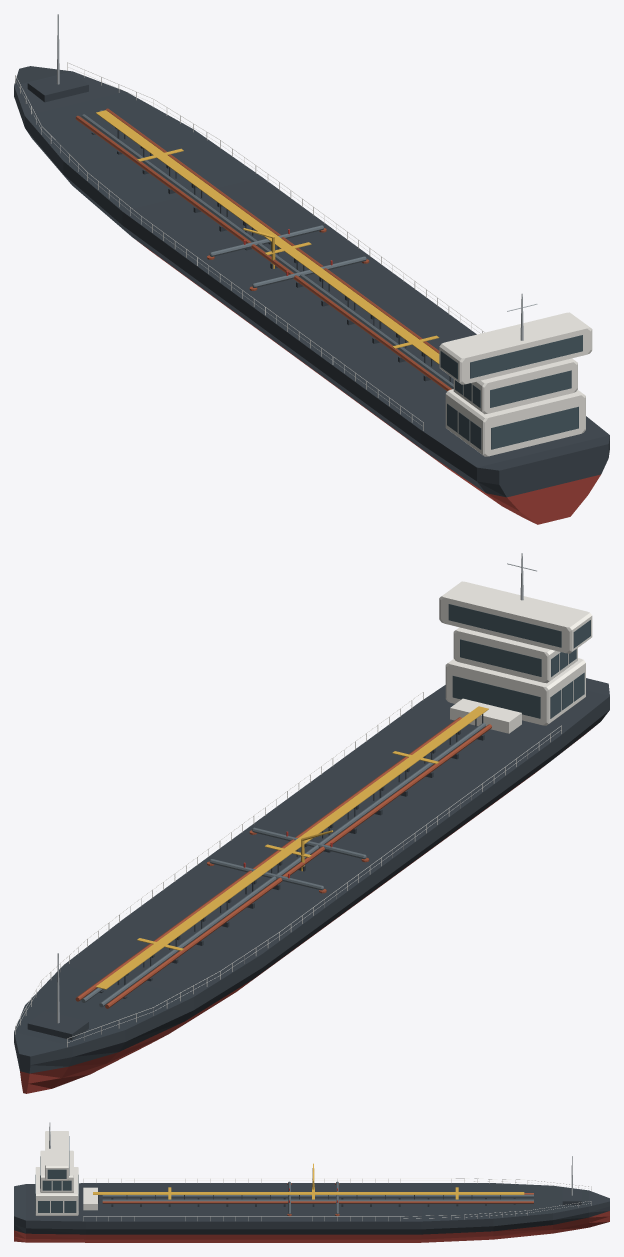
The model's file is BOAT_10.obj.
The picture shows the model from 3 angles, top to bottom: view 1: azimuth 30°, elevation 25°; view 2: azimuth 150°, elevation 25°; view 3: azimuth 270°, elevation 25°; orthographic projection. The views are drawn at different scales.
Parts seen in each view (by area): view 1: hull_upper, windows, deck_pipes, bridge, walkway, superstructure, hull_lower, deck2, railings, manifold, forecastle_machinery; view 2: hull_upper, windows, deck_pipes, walkway, bridge, superstructure, hull_lower, railings, deck2, stern_deck_house, manifold, forecastle_machinery; view 3: hull_upper, hull_lower, deck_pipes, railings, walkway, windows, bridge, superstructure, deck2, stern_deck_house, forecastle_machinery, pipe_supports (+1 smaller).
Part boxes in pixels (left/top/right/bottom): hull_upper: left=14, top=66, right=609, bottom=497; windows: left=440, top=335, right=582, bottom=449; deck_pipes: left=75, top=108, right=453, bottom=391; bridge: left=439, top=312, right=592, bottom=384; walkway: left=96, top=110, right=450, bottom=381; superstructure: left=445, top=389, right=585, bottom=456; hull_lower: left=137, top=241, right=600, bottom=524; deck2: left=453, top=358, right=577, bottom=414; railings: left=15, top=62, right=484, bottom=430; manifold: left=207, top=225, right=369, bottom=290; forecastle_machinery: left=27, top=72, right=88, bottom=102; hull_upper: left=14, top=678, right=609, bottom=1073; windows: left=448, top=604, right=590, bottom=718; deck_pipes: left=75, top=717, right=491, bottom=1008; walkway: left=95, top=706, right=488, bottom=989; bridge: left=439, top=581, right=592, bottom=653; superstructure: left=445, top=658, right=585, bottom=725; hull_lower: left=20, top=728, right=592, bottom=1093; railings: left=15, top=692, right=561, bottom=1047; deck2: left=453, top=627, right=577, bottom=683; stern_deck_house: left=450, top=698, right=521, bottom=733; manifold: left=207, top=827, right=369, bottom=893; forecastle_machinery: left=27, top=1011, right=88, bottom=1039; hull_upper: left=14, top=1183, right=609, bottom=1234; hull_lower: left=14, top=1211, right=609, bottom=1242; deck_pipes: left=102, top=1193, right=533, bottom=1203; railings: left=83, top=1178, right=591, bottom=1220; walkway: left=93, top=1187, right=524, bottom=1203; windows: left=35, top=1136, right=78, bottom=1212; bridge: left=45, top=1131, right=68, bottom=1180; superstructure: left=35, top=1167, right=78, bottom=1215; deck2: left=40, top=1150, right=73, bottom=1192; stern_deck_house: left=83, top=1187, right=97, bottom=1210; forecastle_machinery: left=562, top=1189, right=581, bottom=1205; pipe_supports: left=111, top=1197, right=515, bottom=1206.
Size of the model in its own units: 19 by 26.46 by 124.
